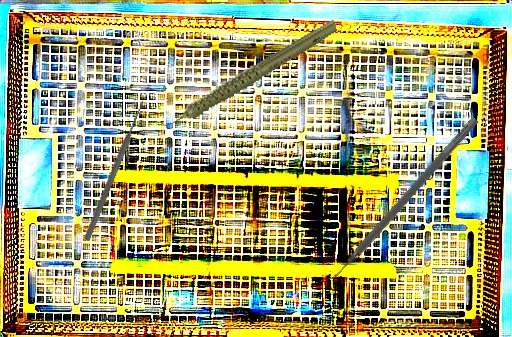Handpiece: (143, 18, 350, 131)
Pusher: (82, 99, 148, 242)
Spatula Surgical: (319, 109, 480, 290)
